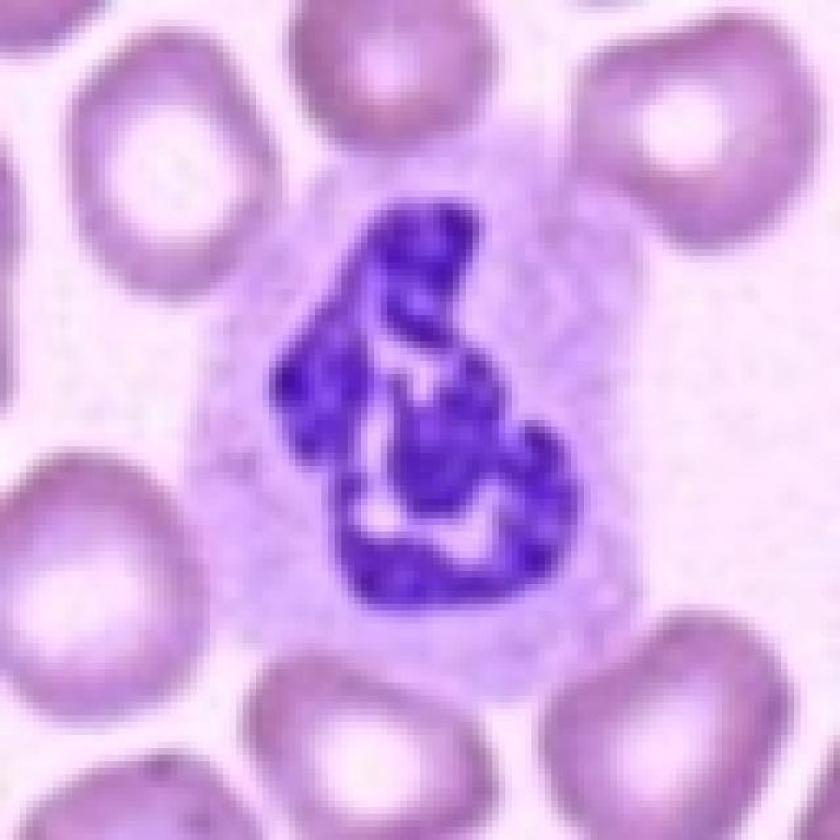neutrophil: (173, 126, 657, 699)
